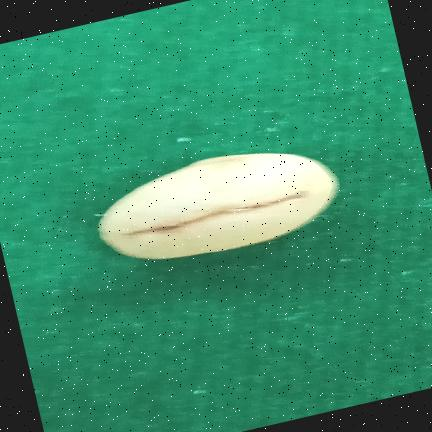parchment: (99, 153, 338, 259)
